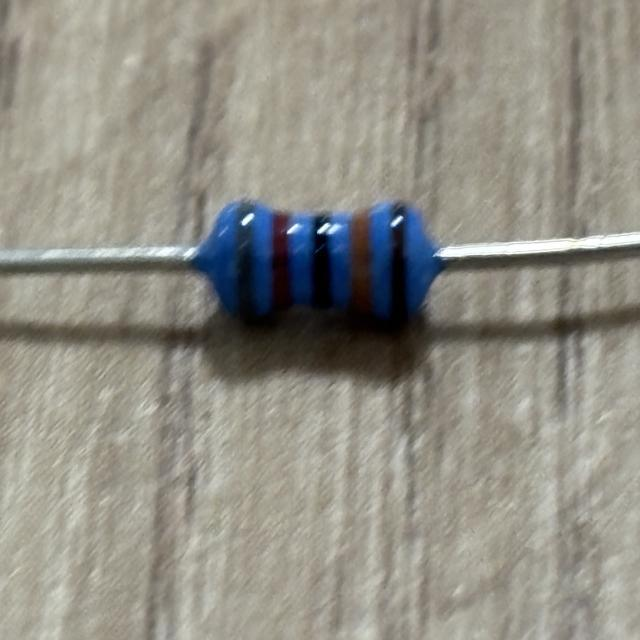resistor: (219, 191, 425, 342)
